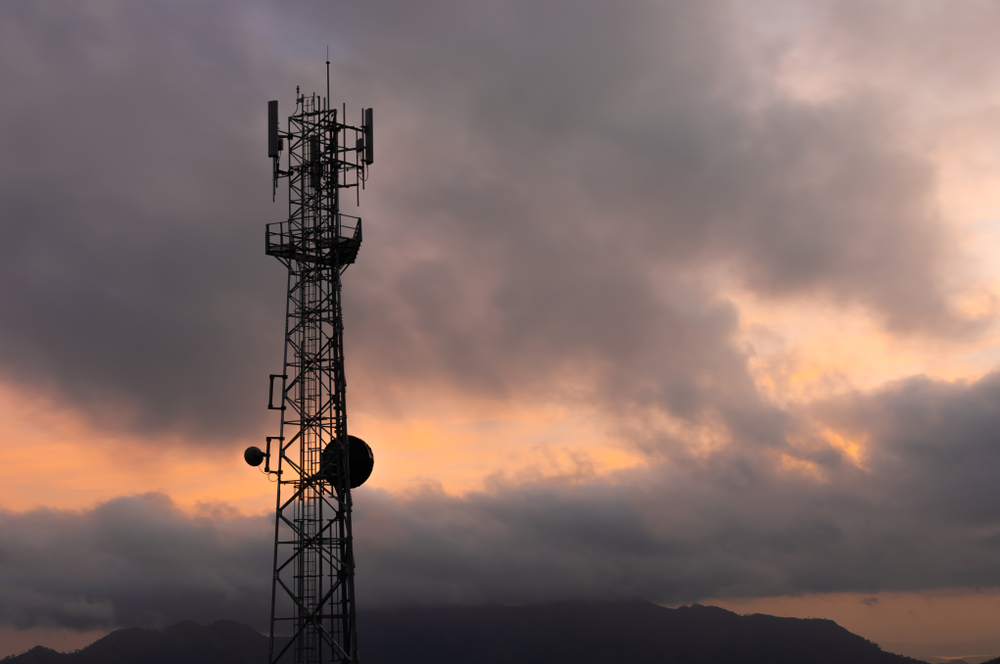ba: (310, 418, 381, 502)
sa: (260, 83, 293, 169), (347, 106, 381, 173)
